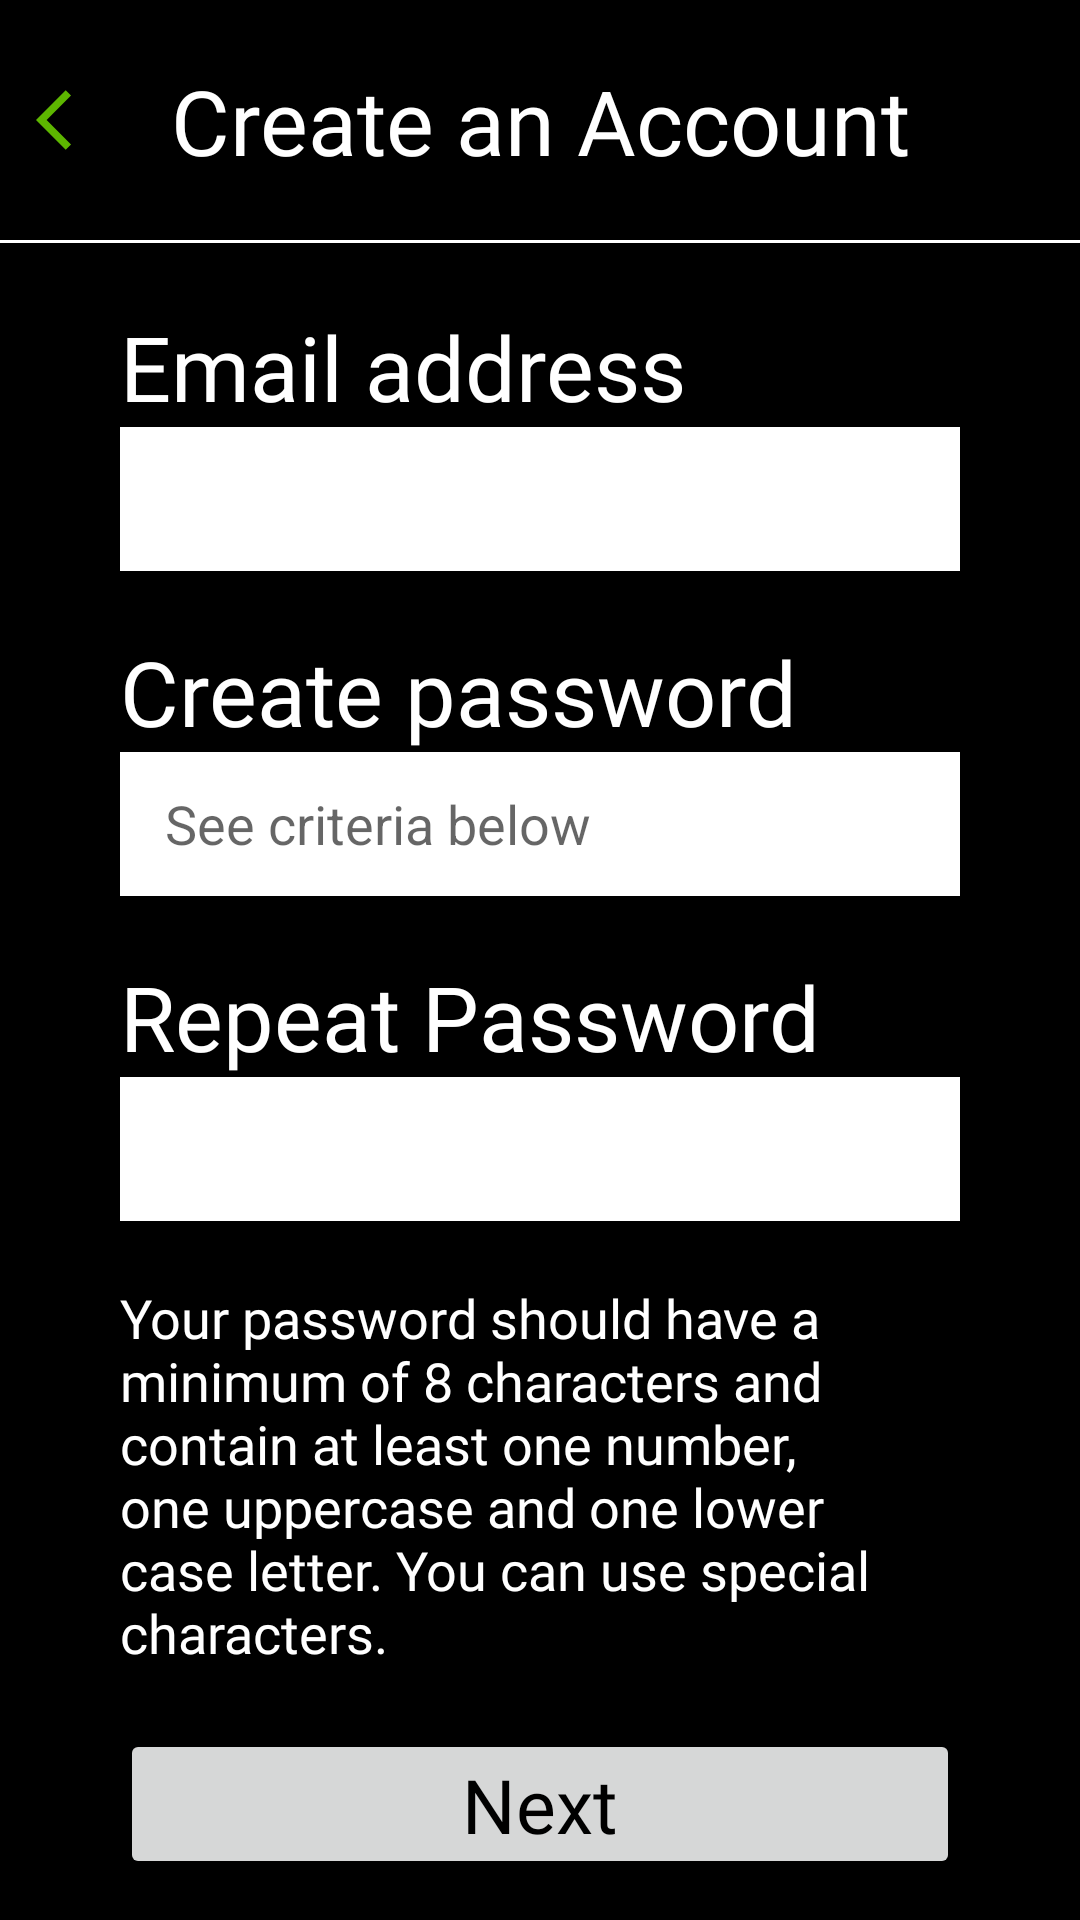

Icon click points for this 1080 × 1920 phone screenshot, format point (x, y):
Go back: point (53, 120)
